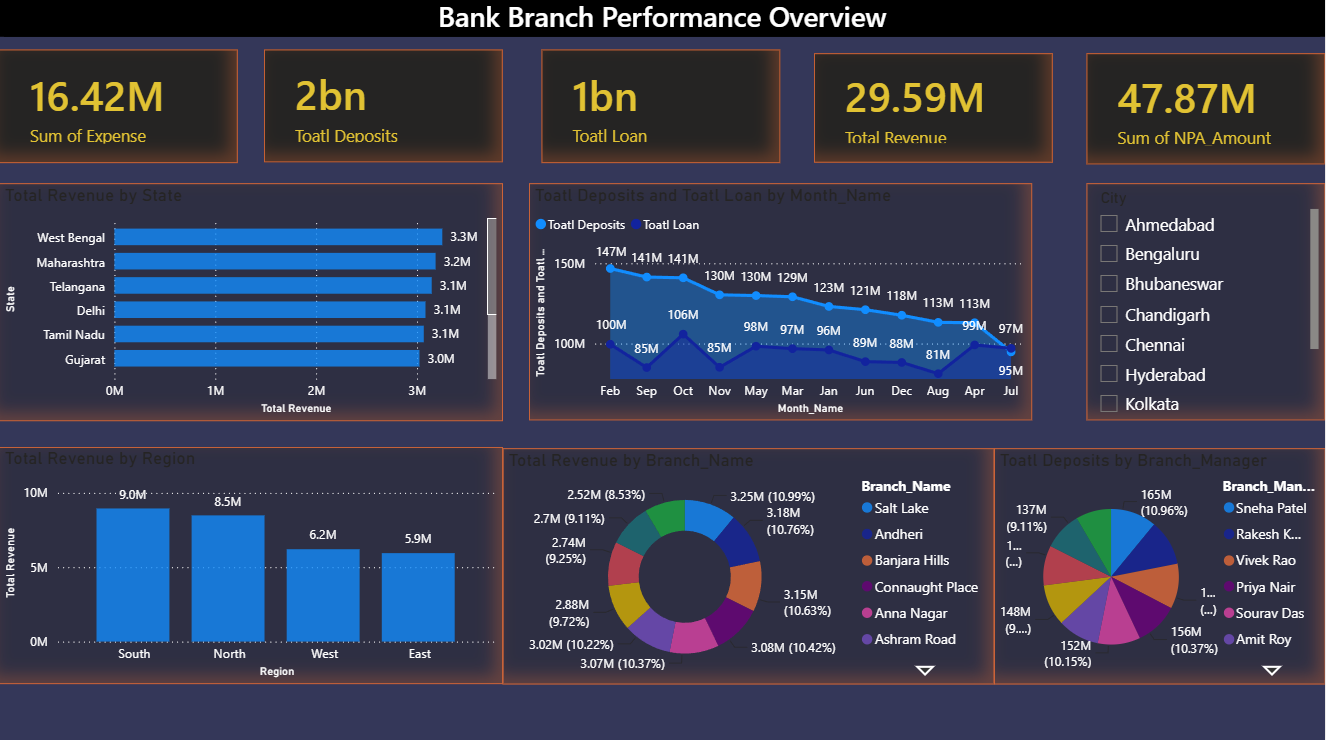

What the dashboard file says about the page in this screenshot:
{"tool":"powerbi","page":{"name":"Page 1","canvas":[1280,720],"ordinal":0},"visuals":[{"type":"textbox","title":"Bank Branch Performance Overview","box":[0,0,1280.3,38.4],"z":0},{"type":"cardVisual","fields":{"Data":["Sum(Fact_BranchPerformance.Expense)"]},"box":[0,50.8,230.5,109.8],"z":1000},{"type":"cardVisual","fields":{"Data":["Dax Query.Toatl Deposits"]},"box":[255.2,50.8,230.5,108.4],"z":2000},{"type":"cardVisual","fields":{"Data":["Dax Query.Toatl Loan"]},"box":[524.2,50.8,230.5,109.8],"z":3000},{"type":"cardVisual","fields":{"Data":["Dax Query.Total Revenue"]},"box":[786.3,54.9,230.5,105.7],"z":4000},{"type":"cardVisual","fields":{"Data":["Sum(Fact_BranchPerformance.NPA_Amount)"]},"box":[1049.7,54.9,230.5,107],"z":5000},{"type":"clusteredBarChart","fields":{"Category":["Dim_Branch.State"],"Y":["Dax Query.Total Revenue"]},"box":[0,179.8,486.2,229.2],"z":6000},{"type":"lineChart","fields":{"Category":["Dim_Date.Month_Name"],"Y":["Dax Query.Toatl Deposits","Dax Query.Toatl Loan"]},"box":[511.8,179.8,485.8,229.2],"z":7000},{"type":"clusteredColumnChart","fields":{"Category":["Dim_Branch.Region"],"Y":["Dax Query.Total Revenue"]},"box":[0,434.5,486,229],"z":8000},{"type":"donutChart","fields":{"Category":["Dim_Branch.Branch_Name"],"Y":["Dax Query.Total Revenue"]},"box":[486.2,435.5,474.1,228],"z":9000},{"type":"pieChart","fields":{"Category":["Dim_Branch.Branch_Manager"],"Y":["Dax Query.Toatl Deposits"]},"box":[960.3,435.5,319.7,228],"z":10000},{"type":"slicer","fields":{"Values":["Dim_Branch.City"]},"box":[1050,180,230,229],"z":11000}]}

Visuals, with their boxes in screenshot pixels (x1, y1, x2, y2), scaled from the page's 1280x720 canvas onto the 1326x740 screenshot:
"Bank Branch Performance Overview" textbox: pyautogui.locateOnScreen(0, 0, 1325, 39)
cardVisual - Sum(Fact_BranchPerformance.Expense): pyautogui.locateOnScreen(0, 52, 239, 165)
cardVisual - Dax Query.Toatl Deposits: pyautogui.locateOnScreen(264, 52, 503, 164)
cardVisual - Dax Query.Toatl Loan: pyautogui.locateOnScreen(543, 52, 782, 165)
cardVisual - Dax Query.Total Revenue: pyautogui.locateOnScreen(815, 56, 1053, 165)
cardVisual - Sum(Fact_BranchPerformance.NPA_Amount): pyautogui.locateOnScreen(1087, 56, 1325, 166)
clusteredBarChart - Dim_Branch.State x Dax Query.Total Revenue: pyautogui.locateOnScreen(0, 185, 504, 420)
lineChart - Dim_Date.Month_Name x Dax Query.Toatl Deposits: pyautogui.locateOnScreen(530, 185, 1033, 420)
clusteredColumnChart - Dim_Branch.Region x Dax Query.Total Revenue: pyautogui.locateOnScreen(0, 447, 503, 682)
donutChart - Dim_Branch.Branch_Name x Dax Query.Total Revenue: pyautogui.locateOnScreen(504, 448, 995, 682)
pieChart - Dim_Branch.Branch_Manager x Dax Query.Toatl Deposits: pyautogui.locateOnScreen(995, 448, 1325, 682)
slicer - Dim_Branch.City: pyautogui.locateOnScreen(1088, 185, 1325, 420)
